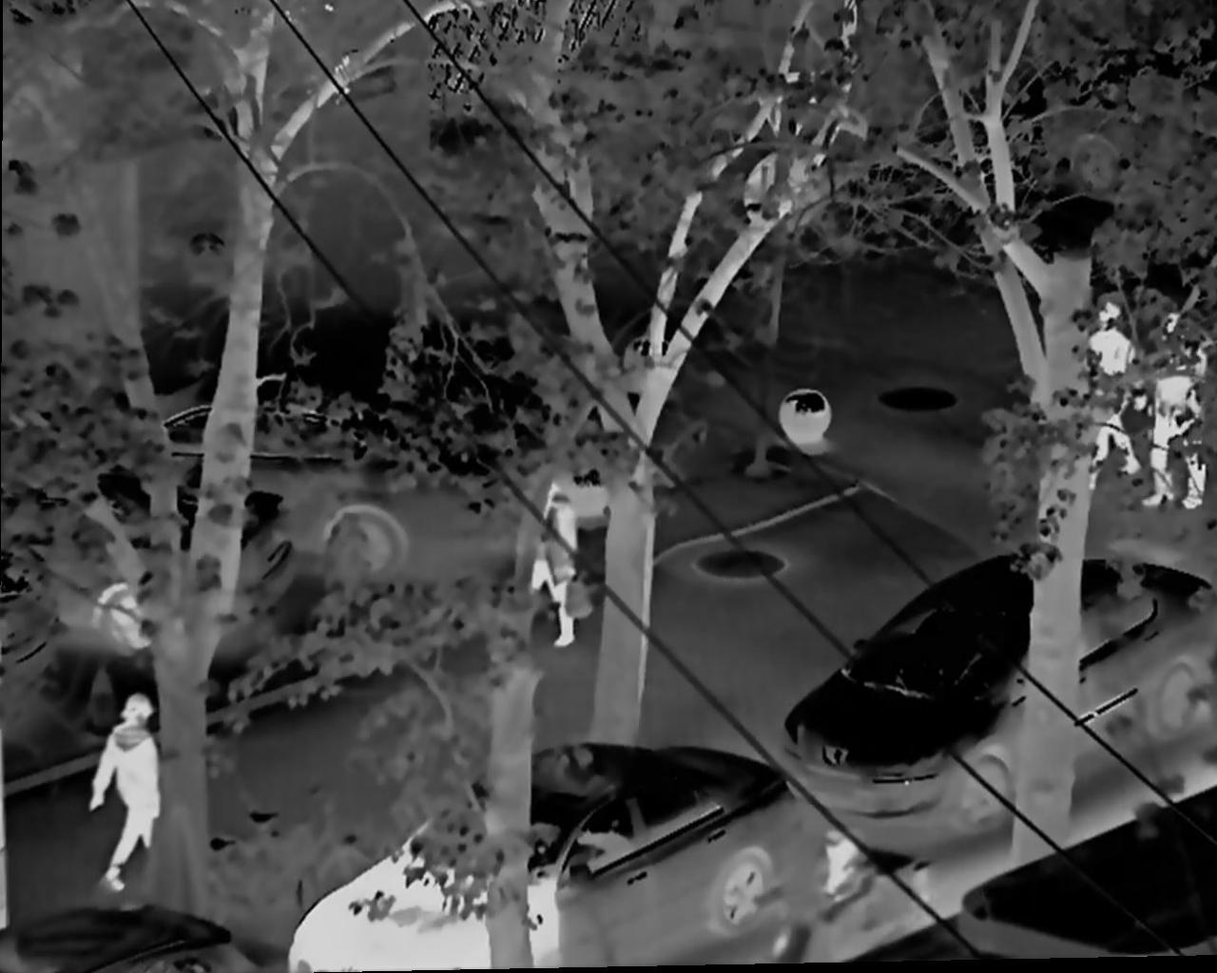person: (80, 693, 171, 906), (1078, 300, 1148, 488), (1147, 316, 1206, 518), (521, 474, 586, 650)
